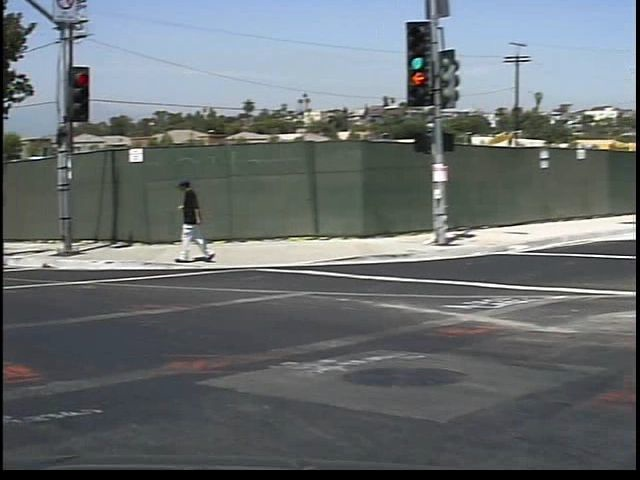person: (160, 175, 208, 281)
